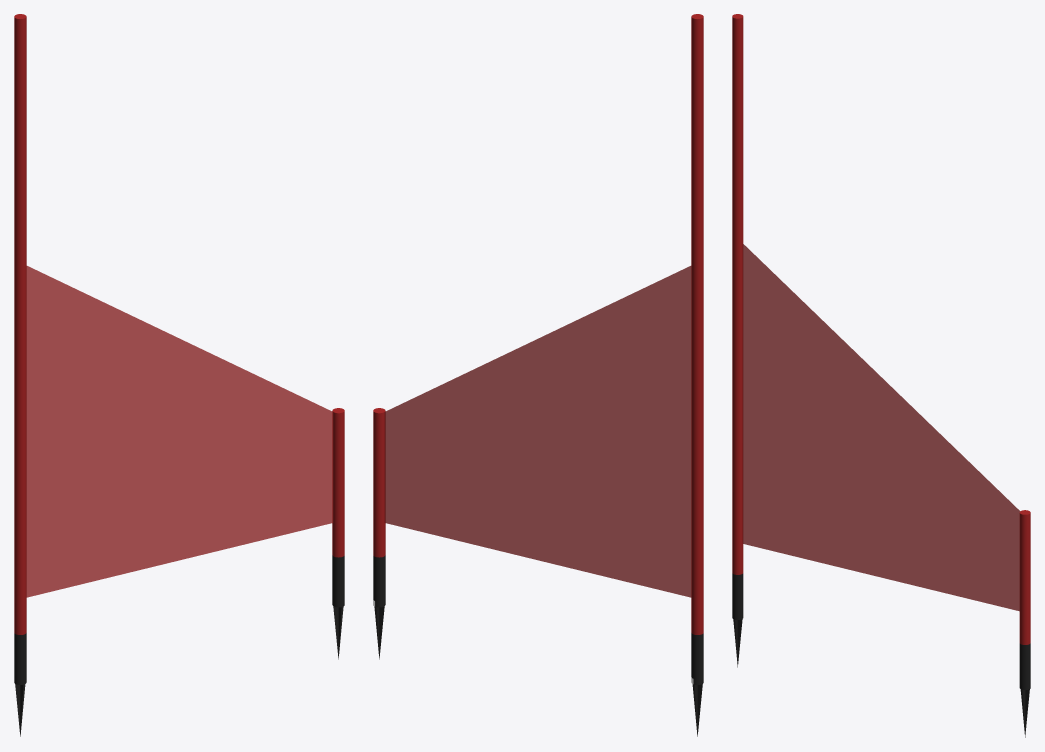
File: Snowboard+Gate+red.fbx
The picture shows the model from 3 angles, left to right: view 1: azimuth 30°, elevation 25°; view 2: azimuth 150°, elevation 25°; view 3: azimuth 330°, elevation 25°; orthographic projection. The views are drawn at different scales.
Parts seen in each view (by area): view 1: Model; view 2: Model; view 3: Model.
Part boxes in pixels (x1,y1,x2,y2): Model: (14,14,344,736); Model: (373,14,703,736); Model: (732,14,1030,737).
Size of the model in its own units: 3.1 by 6.5 by 0.1.
